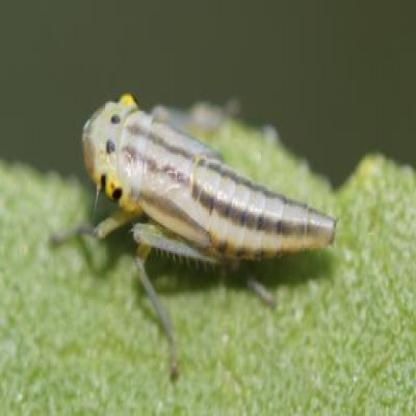Green-Leafhopper: (49, 92, 344, 358)
